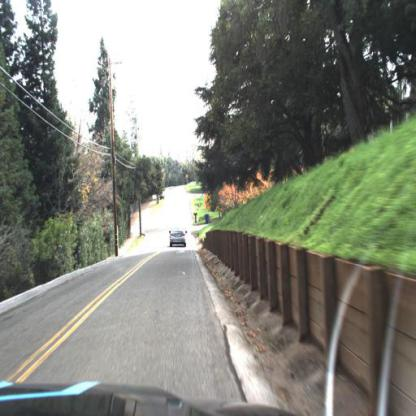car: (167, 225, 188, 255)
